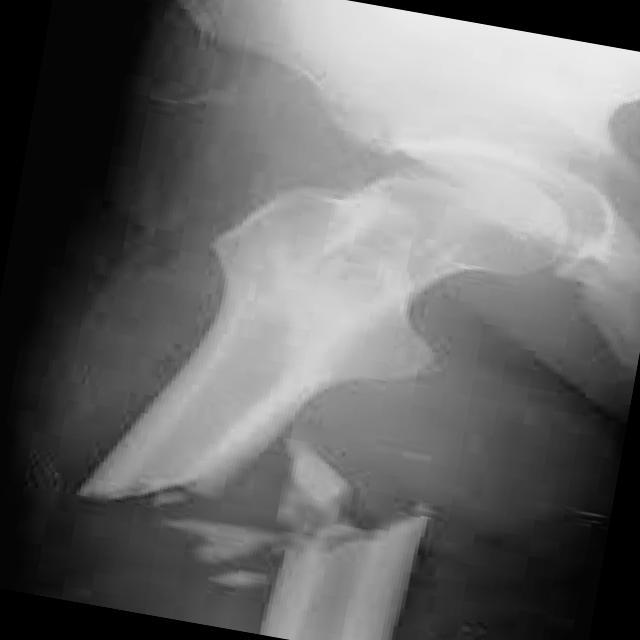Comminuted Fracture: (95, 424, 449, 582)
